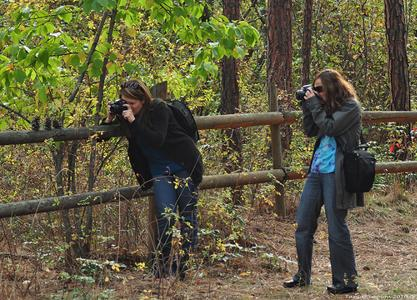person: (283, 69, 365, 295)
